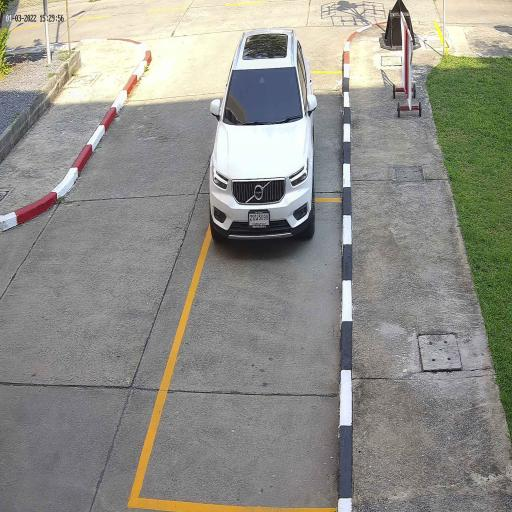car: (208, 26, 317, 247)
